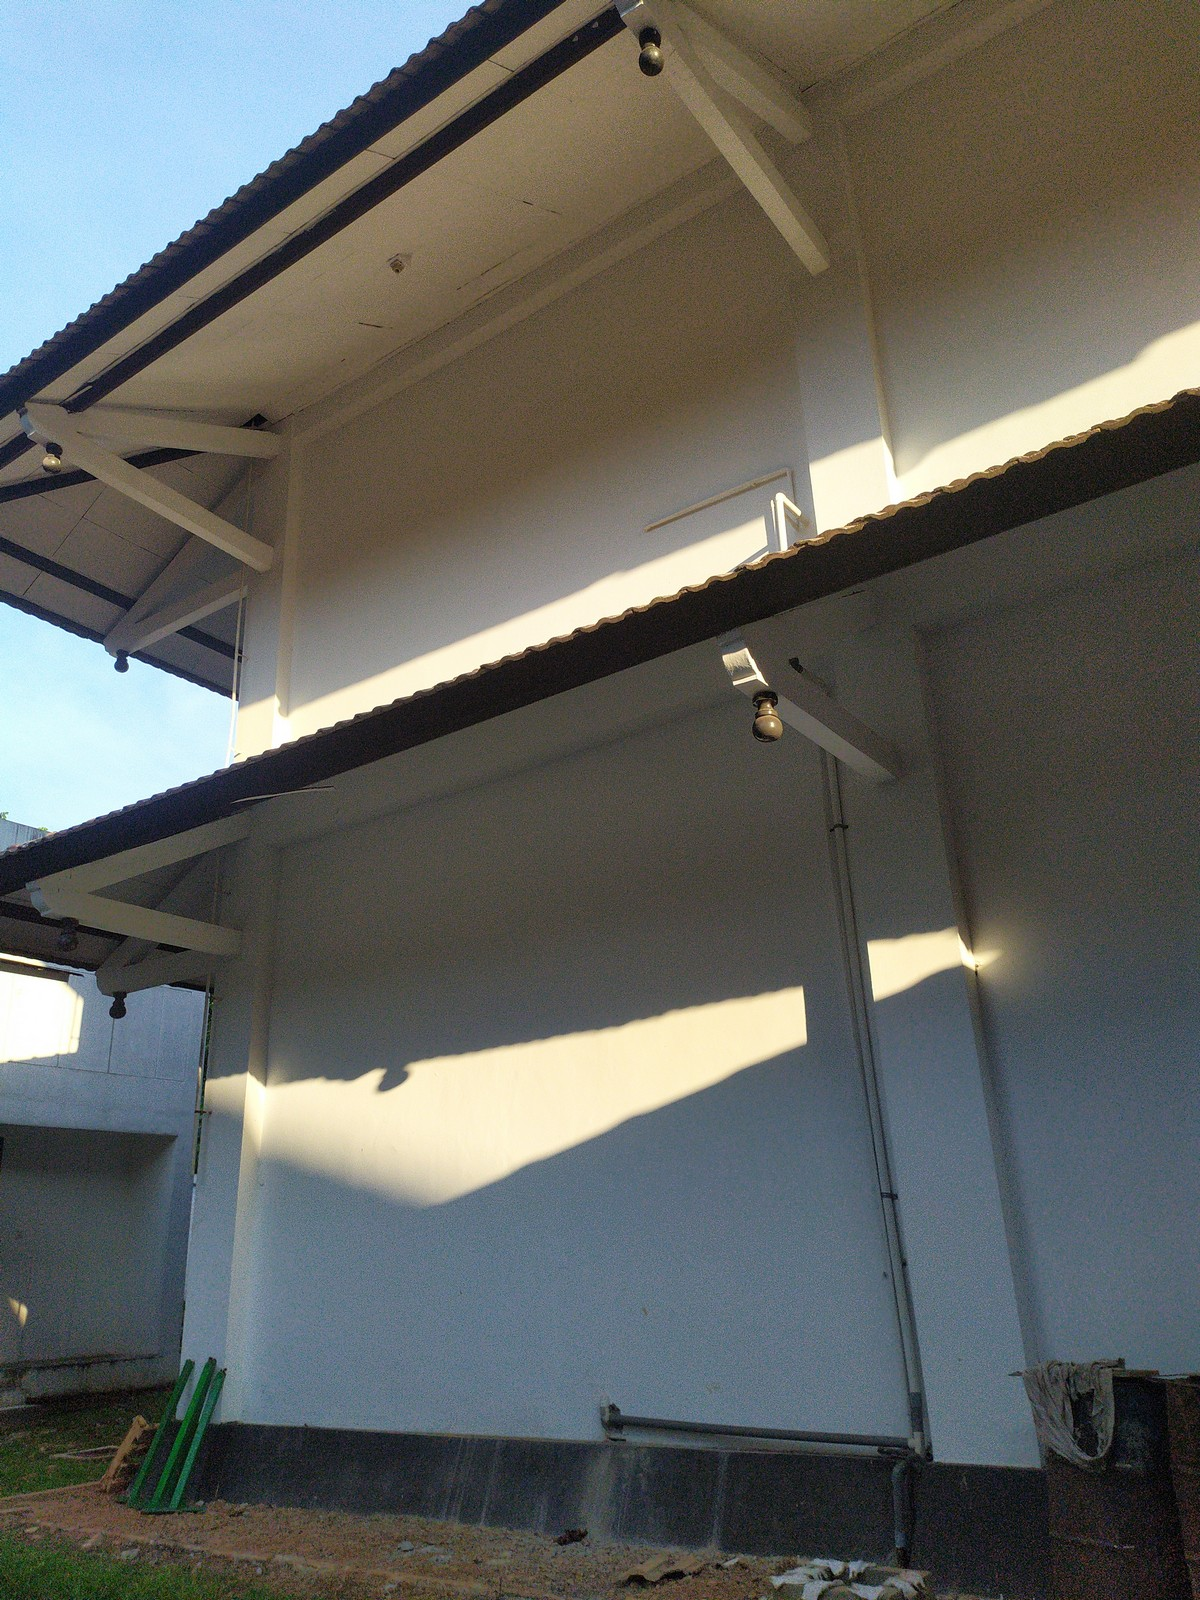concrete beam: (89, 894, 251, 965)
concrete column: (829, 648, 1084, 1489), (761, 101, 911, 529), (175, 858, 287, 1415), (222, 417, 304, 757)
